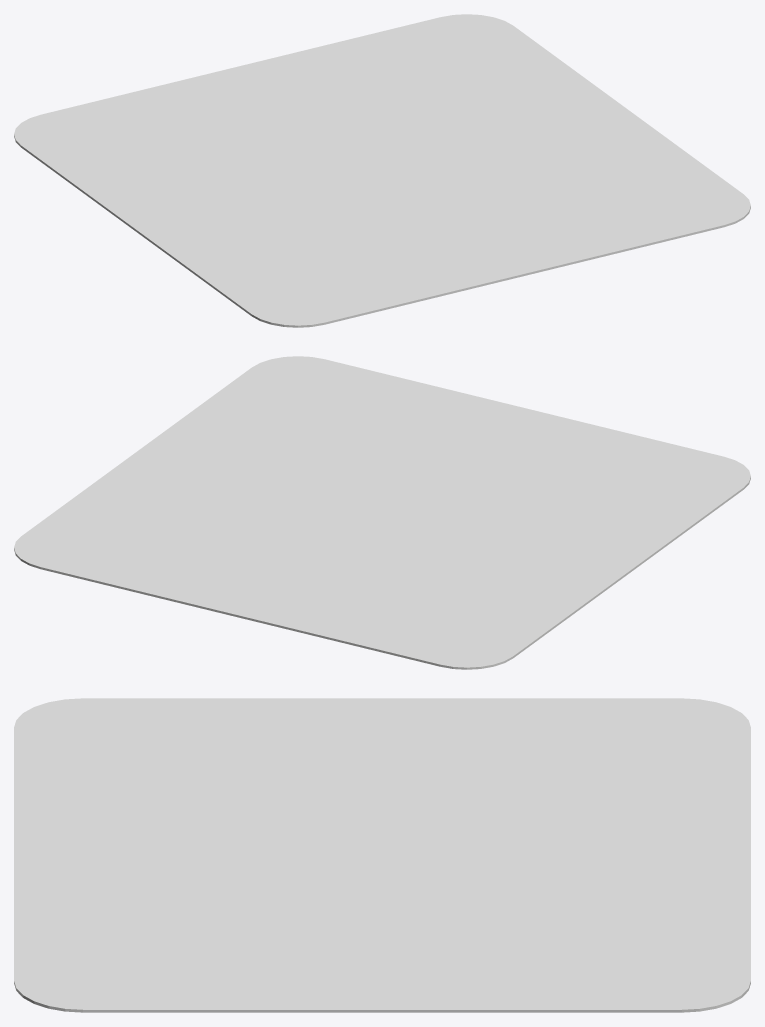
3 views of the same model, one above another, from view 1: azimuth 30°, elevation 25°; view 2: azimuth 150°, elevation 25°; view 3: azimuth 270°, elevation 25° (orthographic). The views are drawn at different scales.
Visible parts, largest first — view 1: COM-02 Floor Surface; view 2: COM-02 Floor Surface; view 3: COM-02 Floor Surface.
Part boxes in pixels (x1,y1,x2,y2): COM-02 Floor Surface: (14, 14, 750, 327); COM-02 Floor Surface: (14, 356, 750, 669); COM-02 Floor Surface: (14, 698, 750, 1012).
Bounding box in the file's own units: 1.92 × 0.008 × 1.92.
Materials: 1 (1 with a texture image).
